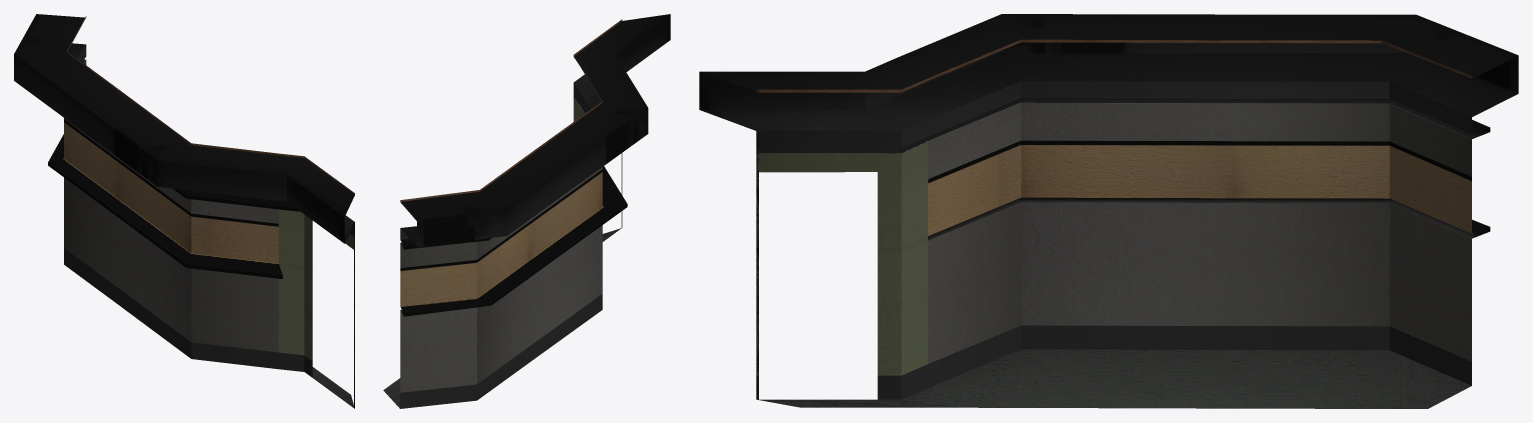
File: one door wall.obj
3 views of the same model, side by side, from view 1: azimuth 30°, elevation 25°; view 2: azimuth 150°, elevation 25°; view 3: azimuth 270°, elevation 25° (orthographic). The views are drawn at different scales.
Visible parts, largest first — view 1: Plane.001_Plane.017; view 2: Plane.001_Plane.017; view 3: Plane.001_Plane.017.
Boxes of the visible parts, x1,y1,x2,y2 form: Plane.001_Plane.017: (14,14,354,408); Plane.001_Plane.017: (383,14,670,408); Plane.001_Plane.017: (699,14,1518,408).
Size of the model in its own units: 2.16 by 3.54 by 8.48.
Materials: 7 (7 with a texture image).
